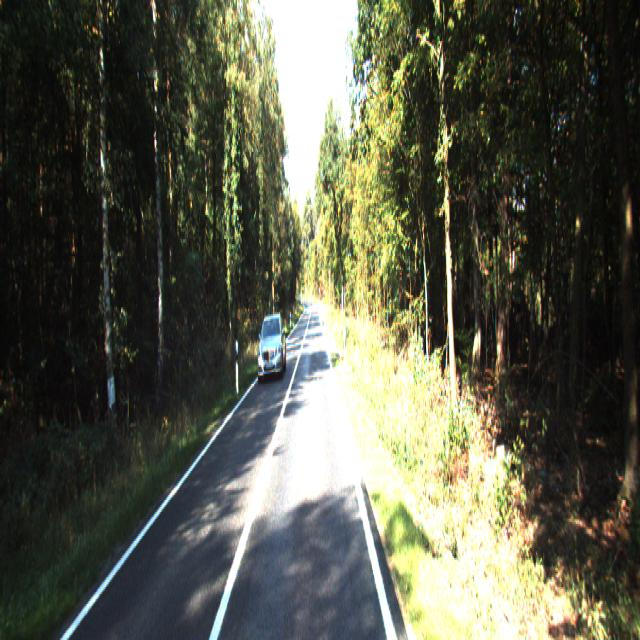Car: (255, 312, 287, 382)
